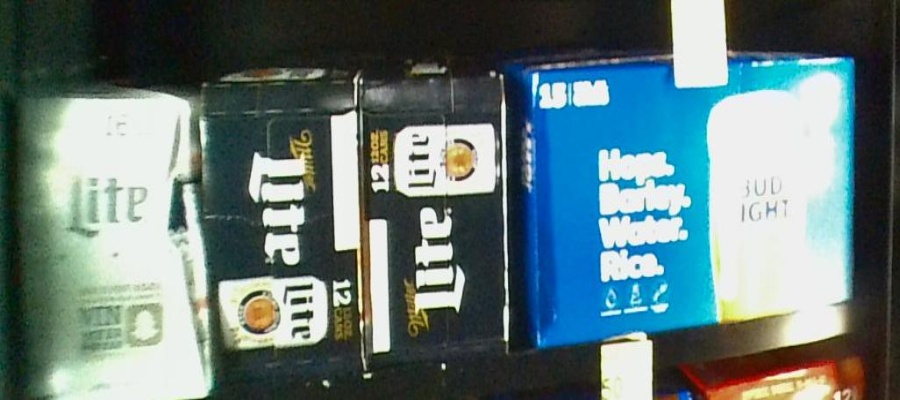bottle: (523, 55, 861, 320), (7, 89, 213, 398), (204, 80, 362, 382), (361, 70, 513, 365)
